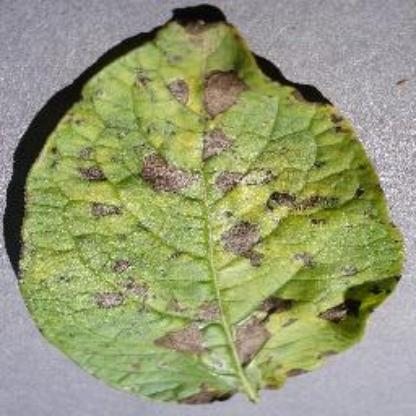Early-Blight: (12, 0, 416, 410)
